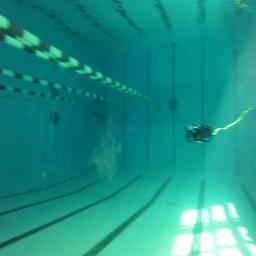Full: (168, 104, 176, 110)
front: (184, 123, 213, 144)
